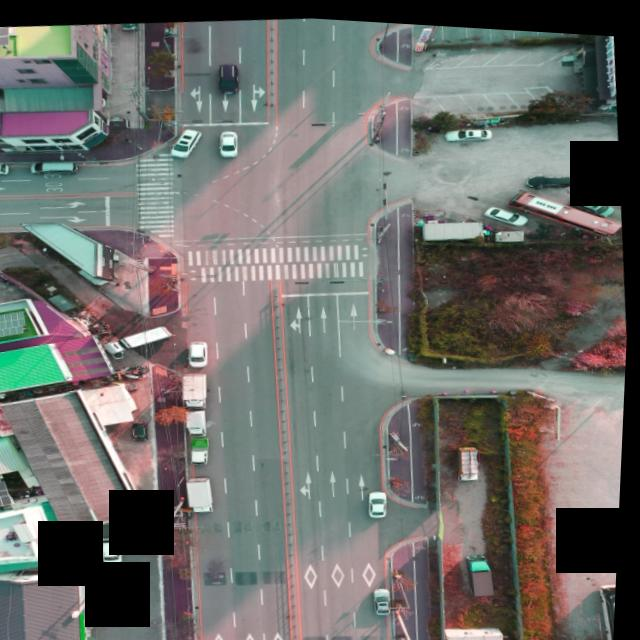car: (569, 184, 623, 212), (478, 197, 532, 222), (29, 156, 81, 177), (169, 123, 203, 155), (523, 165, 575, 185), (446, 119, 494, 136), (102, 533, 127, 563), (216, 59, 240, 90), (189, 335, 212, 364), (371, 485, 394, 513), (129, 418, 152, 443), (219, 127, 240, 153), (377, 582, 398, 608), (0, 160, 14, 178)
large_bus: (503, 173, 625, 237), (599, 571, 621, 640)
medium_truck: (104, 320, 177, 353), (464, 544, 508, 593), (186, 473, 220, 513), (183, 366, 213, 405)
small_truck: (458, 438, 484, 476), (185, 405, 210, 436), (190, 433, 213, 463)
